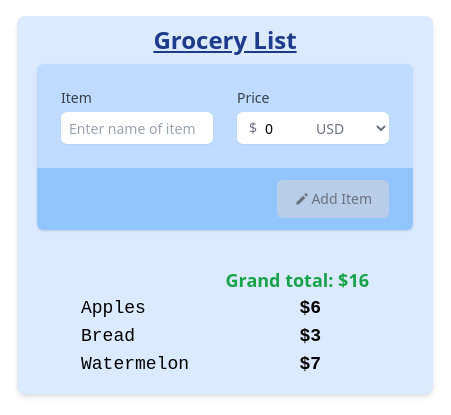
interactions › should show 'edit' and 'trash' icons on item mouseover
The width and height of the screenshot is (451, 415).
Hover over the text "Apples": (113, 308) [81,294,146,322]
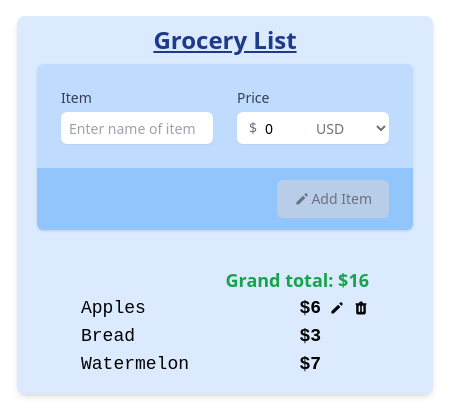
Result: the element with test id "edit" is shown at [329,300,345,316]
Result: the element with test id "trash" is shown at [353,300,369,316]
